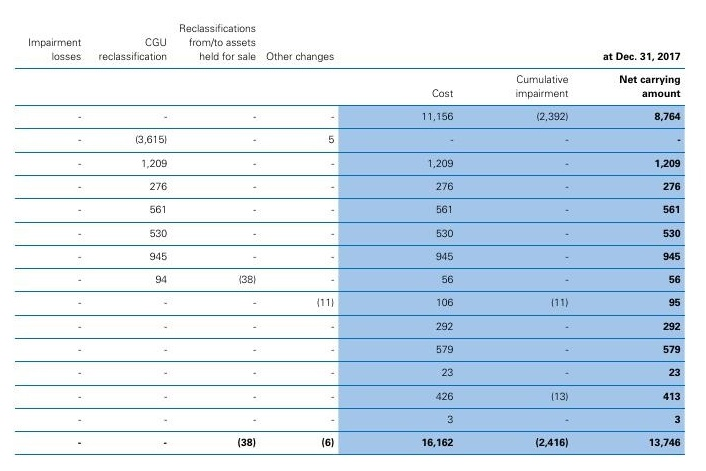table: (0, 0, 706, 471)
